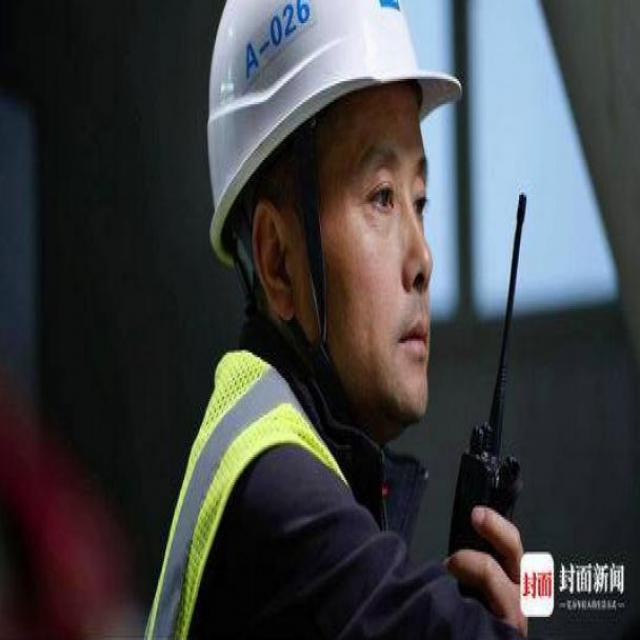helmet: (184, 7, 502, 426)
vest: (90, 356, 346, 639)
